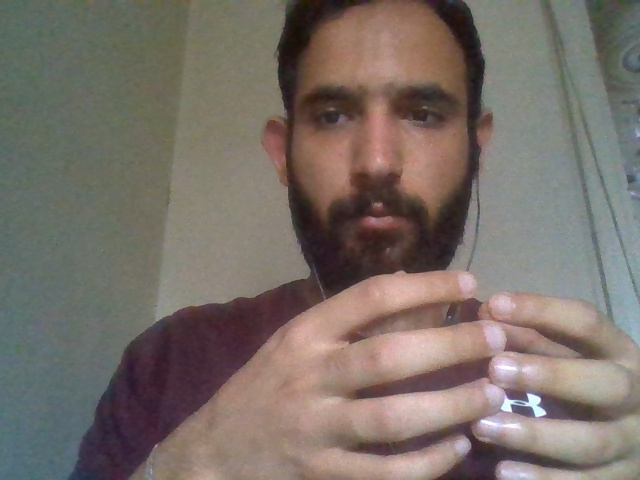Story: (253, 258, 640, 480)
